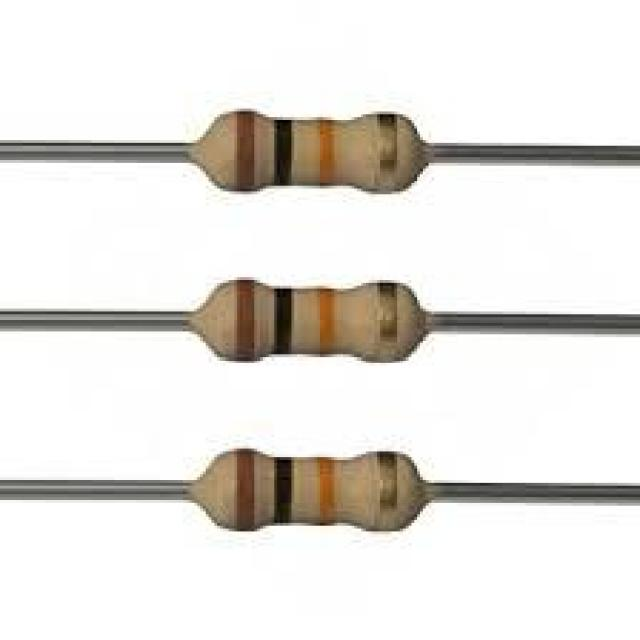Resistor: (0, 278, 640, 362), (0, 110, 640, 192), (0, 449, 640, 530)
